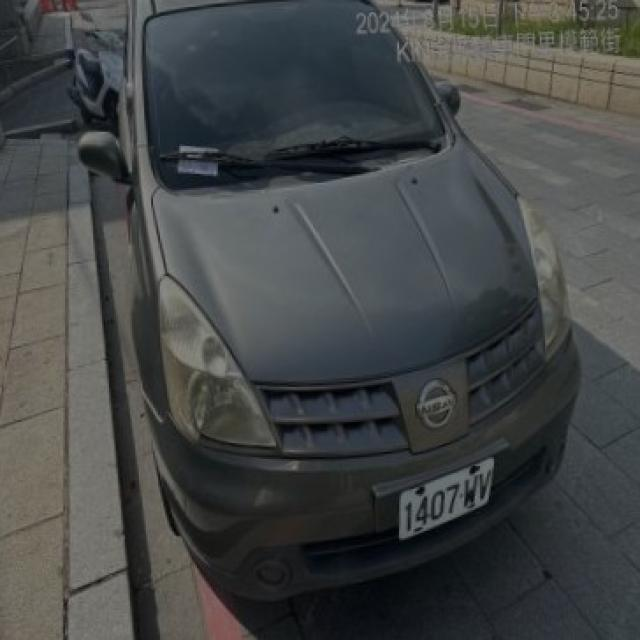Legalparking: (81, 0, 622, 563)
